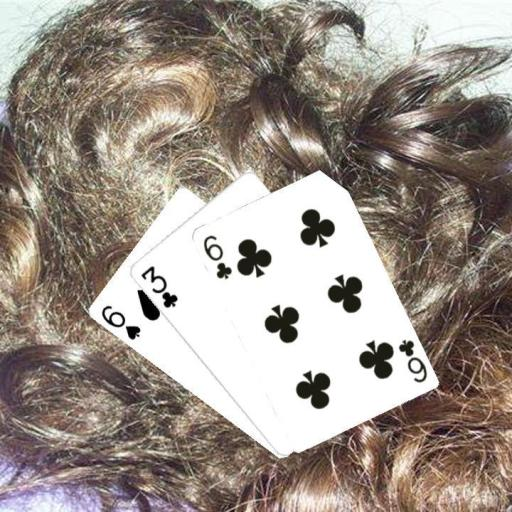3C: (137, 262, 179, 310)
6C: (199, 231, 233, 281), (395, 336, 429, 384)
6S: (98, 302, 143, 342)
